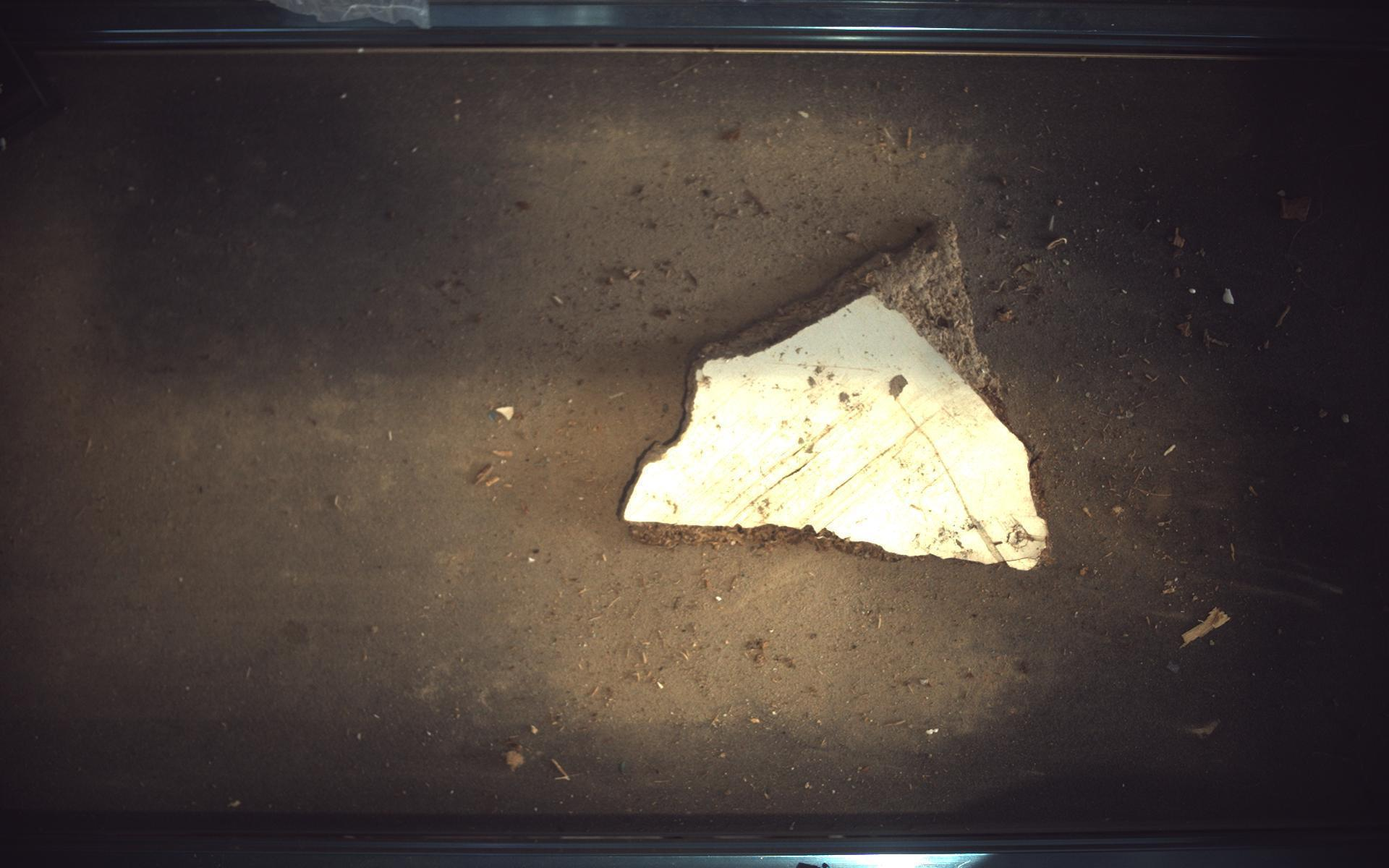wood: (623, 221, 1050, 571)
